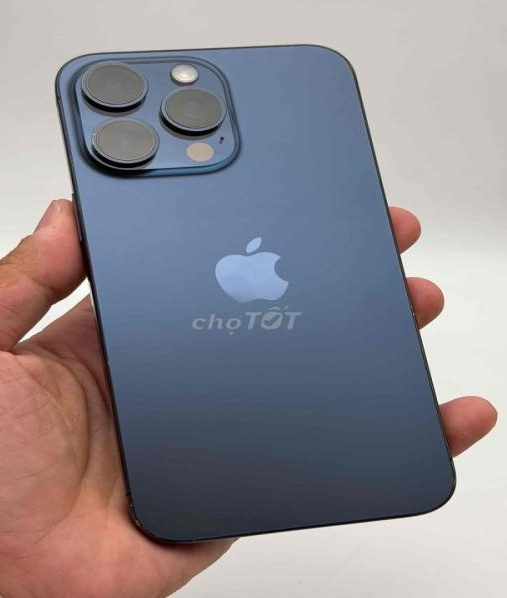scratch: (127, 499, 142, 525), (89, 127, 97, 144), (104, 358, 112, 365)
